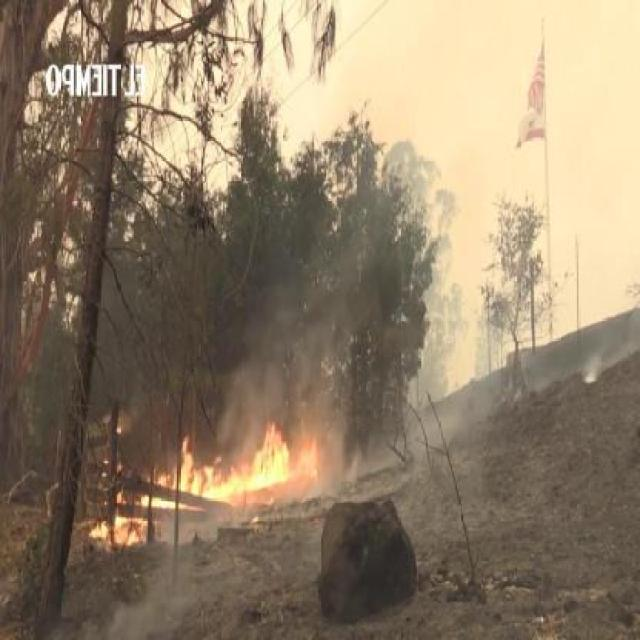Fire: (151, 425, 322, 506), (89, 516, 146, 546), (141, 495, 202, 517)
